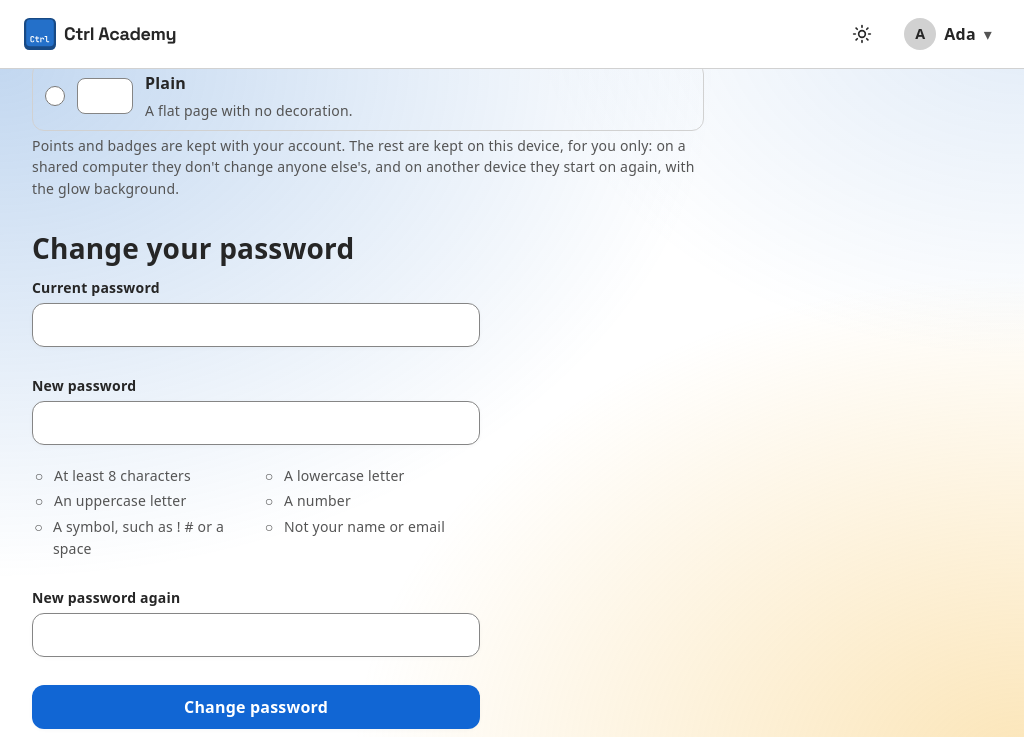
Test: changing the password › checks the form before sending anything
This screenshot has width=1024, height=737.
(page scrolled)
Expected: the heading "Change your password" is shown, [32, 229, 354, 267]
Type "Purple kettle 42" into the password field labelled "New password" at (256, 423), box [32, 401, 480, 445]
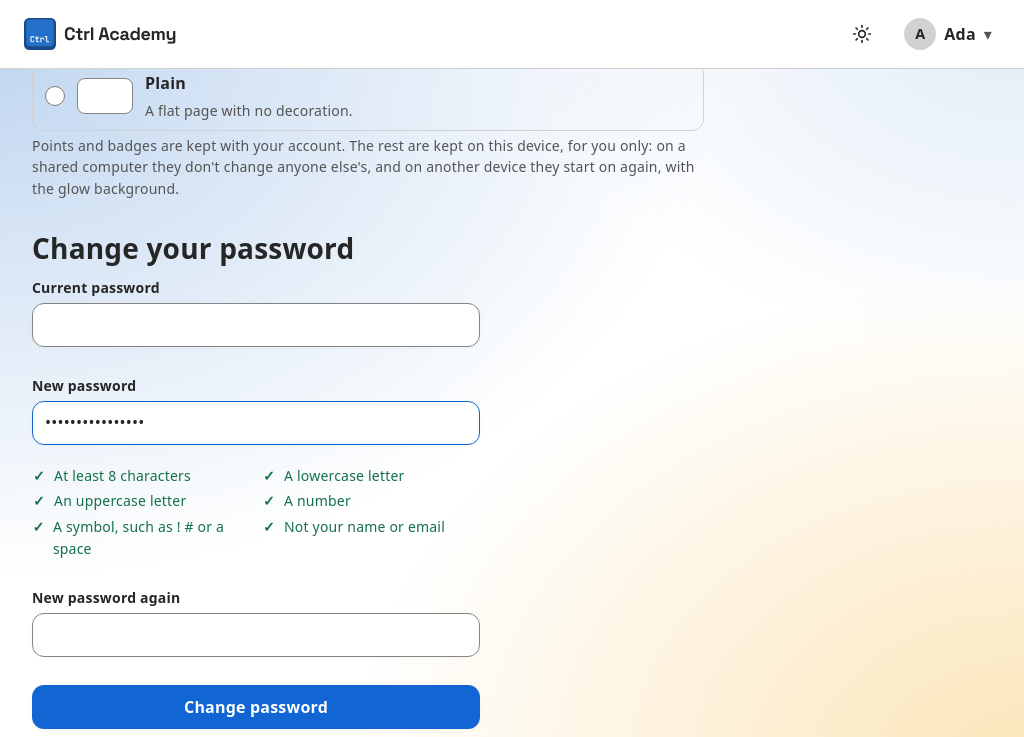
Type "Purple kettle 43" into the password field labelled "New password again" at (256, 635), box [32, 613, 480, 657]
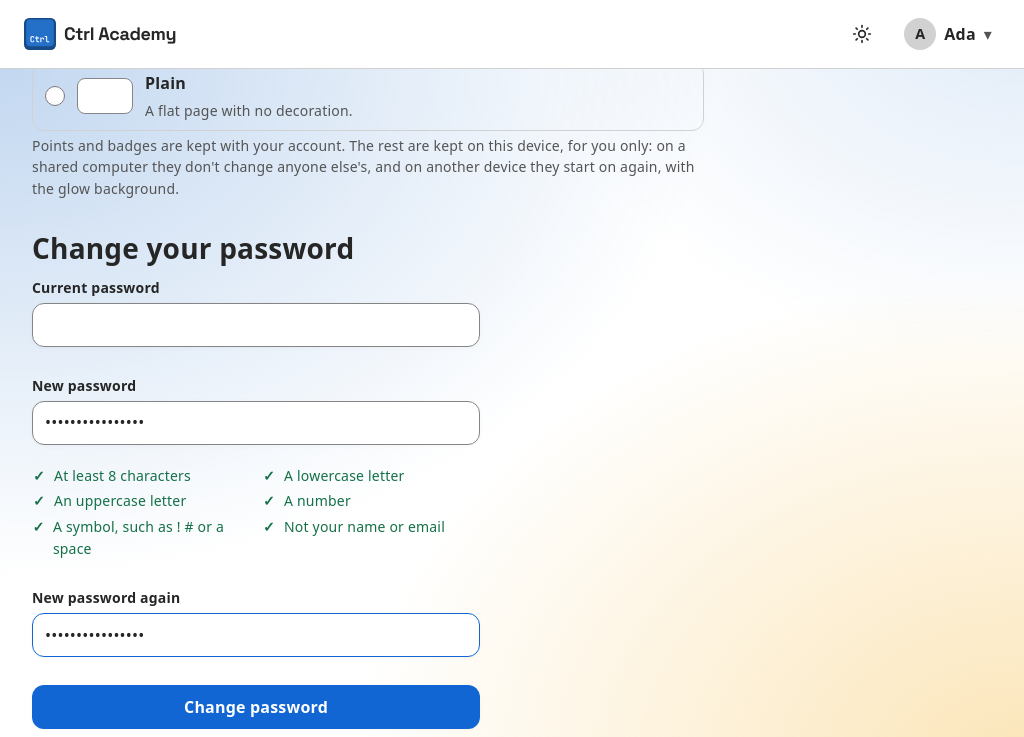
Click the button "Change password" at (256, 707), box [32, 685, 480, 729]
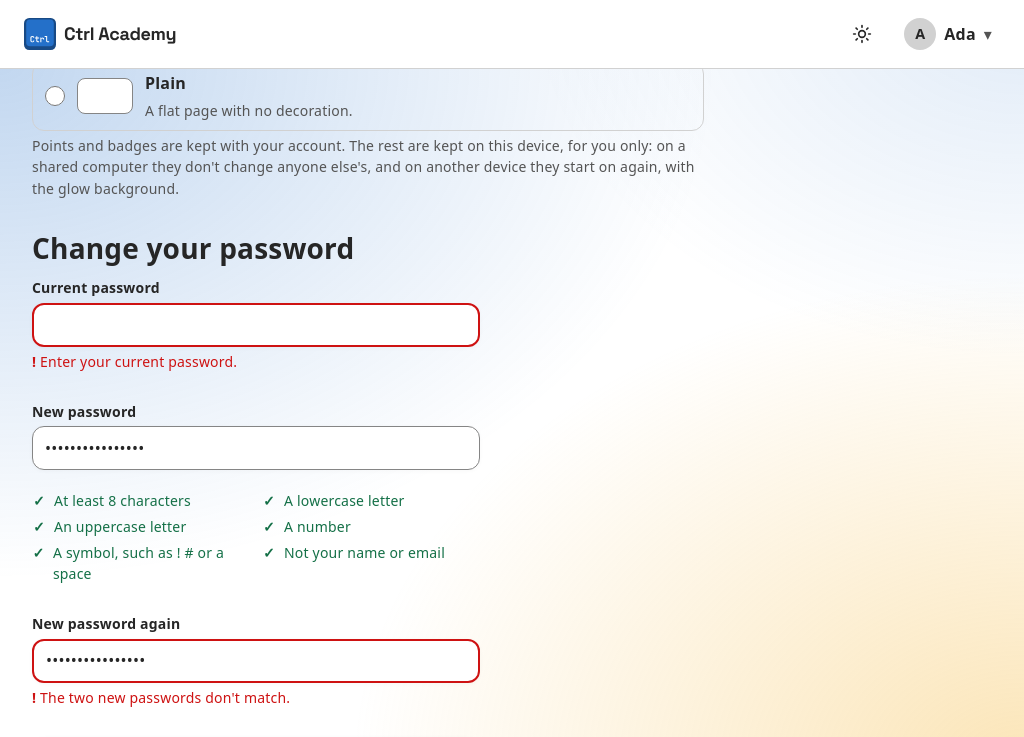
Expected: the text "Enter your current password." is shown, [40, 352, 237, 371]
Expected: the text "The two new passwords don't match." is shown, [40, 688, 290, 707]
